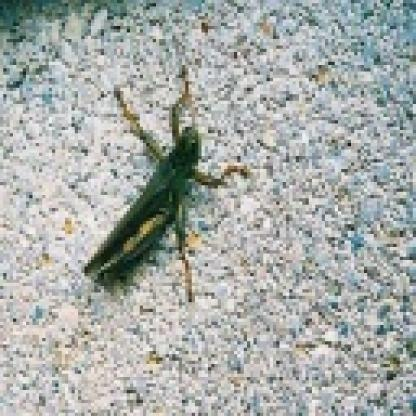grasshopper: (83, 72, 243, 304)
